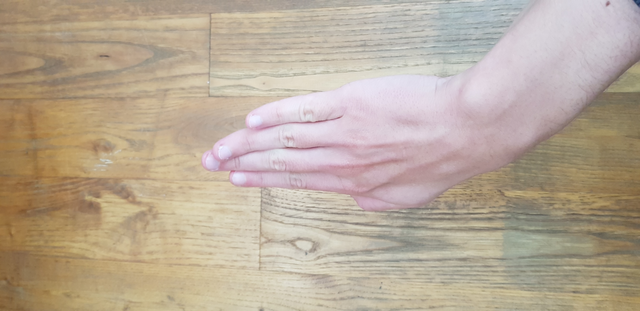Paper: (166, 64, 500, 231)
